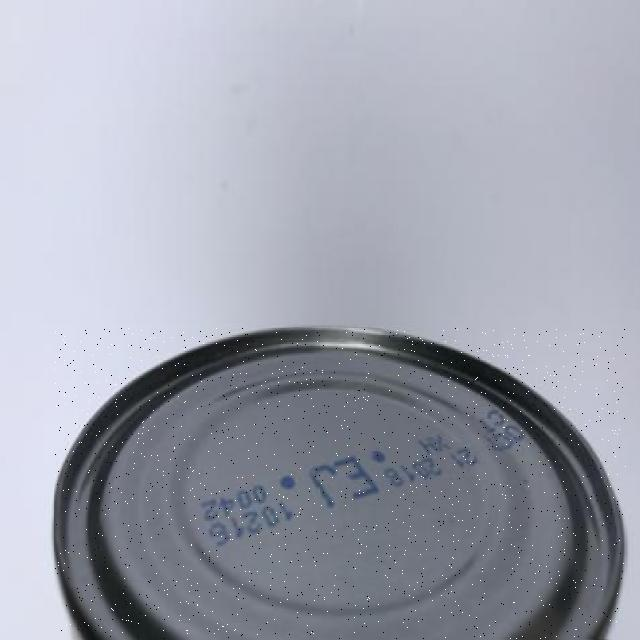metal: (55, 329, 626, 639)
